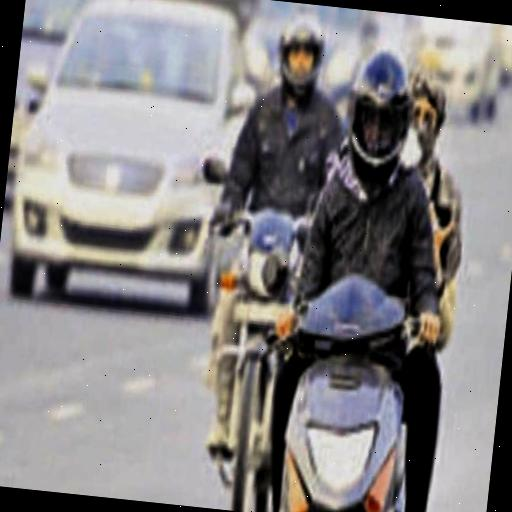helmet: (289, 27, 453, 512), (200, 1, 341, 500)
